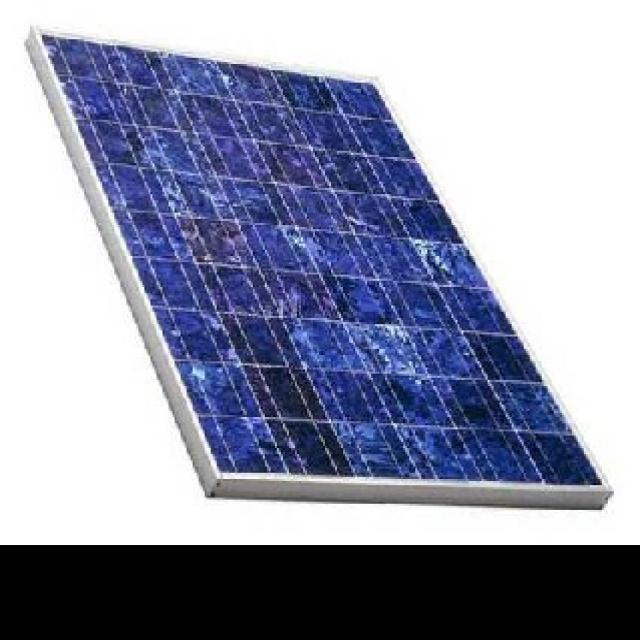faulty: (37, 37, 603, 483)
